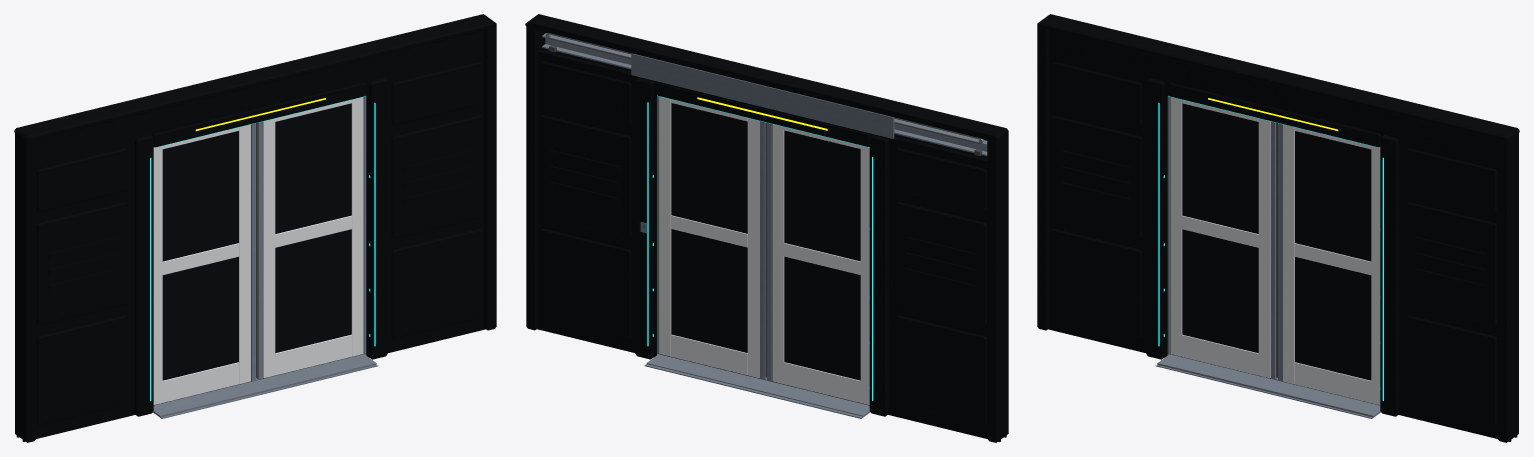
3 renders of one model, left to right at view 1: azimuth 30°, elevation 25°; view 2: azimuth 150°, elevation 25°; view 3: azimuth 330°, elevation 25°, orthographic.
Parts seen in each view (by area): view 1: frame, leaf_R_core, leaf_L_core, leaf_R_face, leaf_L_face, threshold, leaf_R_stiles, leaf_L_stiles, reveal_strips, leaf_R_seal; view 2: frame, leaf_L_core, leaf_R_core, leaf_R_face, leaf_L_face, slide_AccessPanel, threshold, slide_Track, leaf_R_stiles, leaf_L_stiles, reveal_strips, slide_Belt (+1 smaller); view 3: frame, leaf_L_core, leaf_R_core, leaf_L_face, leaf_R_face, threshold, leaf_L_stiles, leaf_R_stiles, reveal_strips, leaf_L_seal.
Boxes of the visible parts, left/top/right/bottom form: frame: left=14, top=14, right=496, bottom=442; leaf_R_core: left=263, top=97, right=363, bottom=378; leaf_L_core: left=154, top=124, right=251, bottom=405; leaf_R_face: left=263, top=97, right=363, bottom=378; leaf_L_face: left=153, top=124, right=250, bottom=404; threshold: left=153, top=354, right=378, bottom=418; leaf_R_stiles: left=256, top=96, right=366, bottom=379; leaf_L_stiles: left=251, top=123, right=255, bottom=381; reveal_strips: left=150, top=96, right=375, bottom=401; leaf_R_seal: left=256, top=123, right=257, bottom=377; frame: left=525, top=14, right=1008, bottom=442; leaf_L_core: left=772, top=124, right=869, bottom=405; leaf_R_core: left=659, top=103, right=759, bottom=378; leaf_R_face: left=659, top=96, right=759, bottom=377; leaf_L_face: left=772, top=124, right=869, bottom=404; slide_AccessPanel: left=631, top=53, right=894, bottom=138; threshold: left=644, top=354, right=870, bottom=418; slide_Track: left=542, top=33, right=987, bottom=156; leaf_R_stiles: left=657, top=96, right=766, bottom=379; leaf_L_stiles: left=767, top=122, right=771, bottom=381; reveal_strips: left=647, top=95, right=873, bottom=400; slide_Belt: left=547, top=33, right=980, bottom=143; frame: left=1037, top=14, right=1519, bottom=442; leaf_L_core: left=1170, top=97, right=1270, bottom=378; leaf_R_core: left=1282, top=124, right=1379, bottom=405; leaf_L_face: left=1170, top=97, right=1270, bottom=378; leaf_R_face: left=1283, top=124, right=1380, bottom=404; threshold: left=1155, top=354, right=1380, bottom=418; leaf_L_stiles: left=1167, top=96, right=1277, bottom=379; leaf_R_stiles: left=1278, top=123, right=1282, bottom=381; reveal_strips: left=1158, top=96, right=1383, bottom=401; leaf_L_seal: left=1276, top=123, right=1277, bottom=376.
Size of what is drawn, in the model's own units: 4.35 by 2.7 by 0.46.
11 materials, 5 textured.
